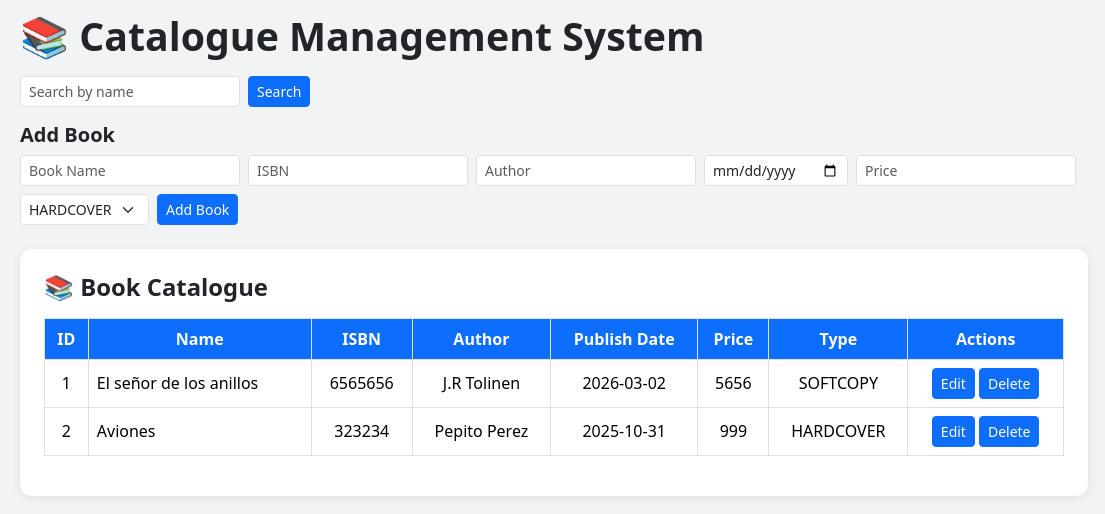
Test: App (flujo completo CRUD + búsqueda) › buscar por nombre filtra la tabla (parcial, sin distinguir mayúsculas) y Clear restaura
Check: the text "Aviones" is shown, box [88,407,311,455]
Type "AV" into the field labelled "Search by name". click: {"x": 130, "y": 92}
box: [20,76,240,107]
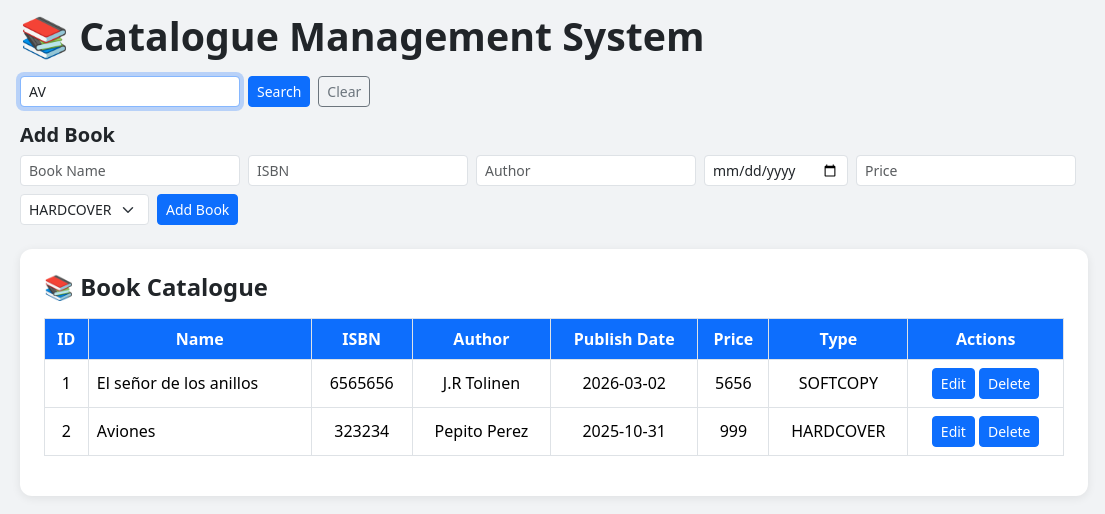
Click the button "Search". click: {"x": 279, "y": 92}
box: [248,76,310,107]
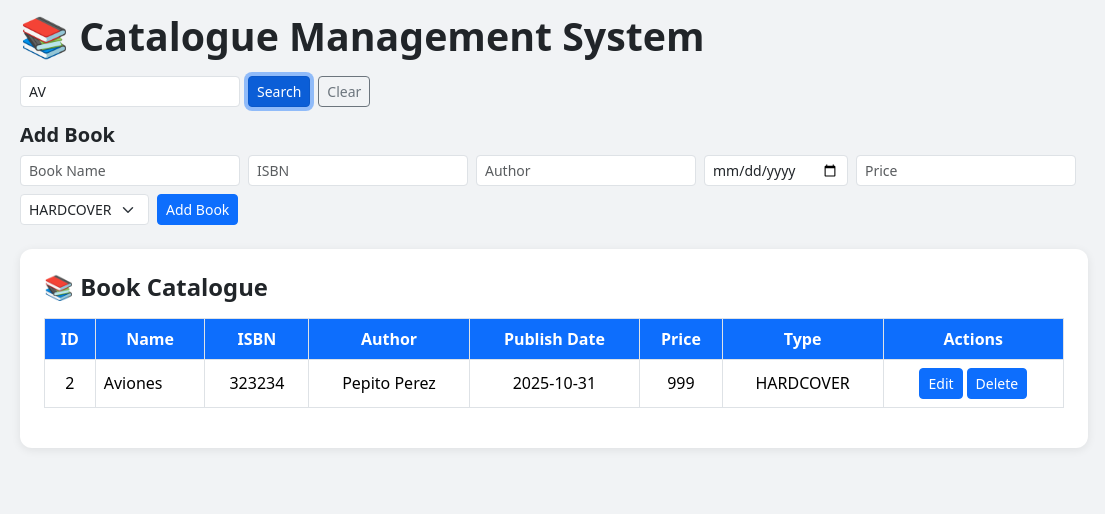
Check: the text "Aviones" is shown, box [95,359,205,407]
Check: the text "El señor de los anillos" is gone
Click the button "Clear". click: {"x": 344, "y": 92}
box: [318,76,370,107]
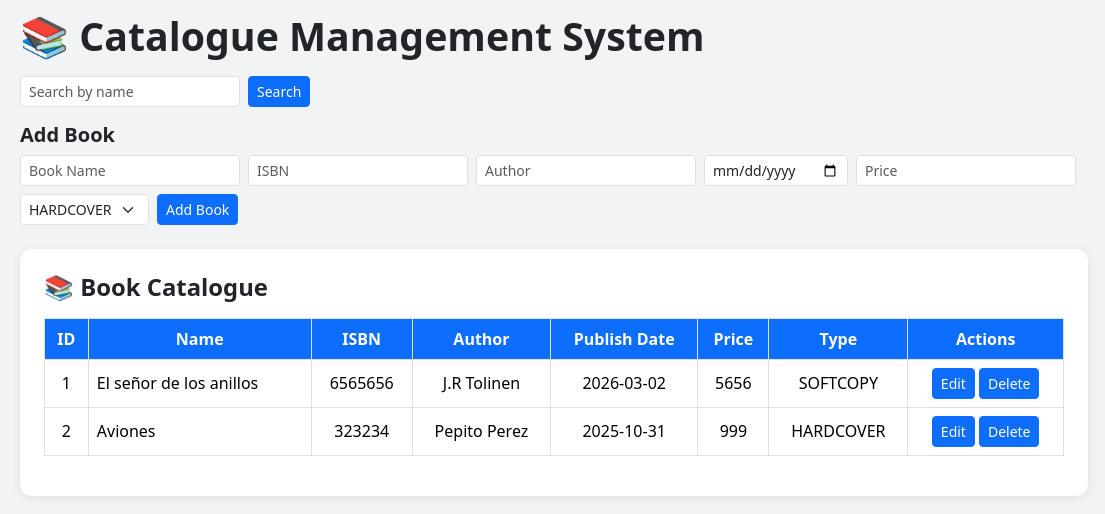
Check: the text "Aviones" is shown, box [88,407,311,455]
Check: the text "El señor de los anillos" is shown, box [88,359,311,407]
